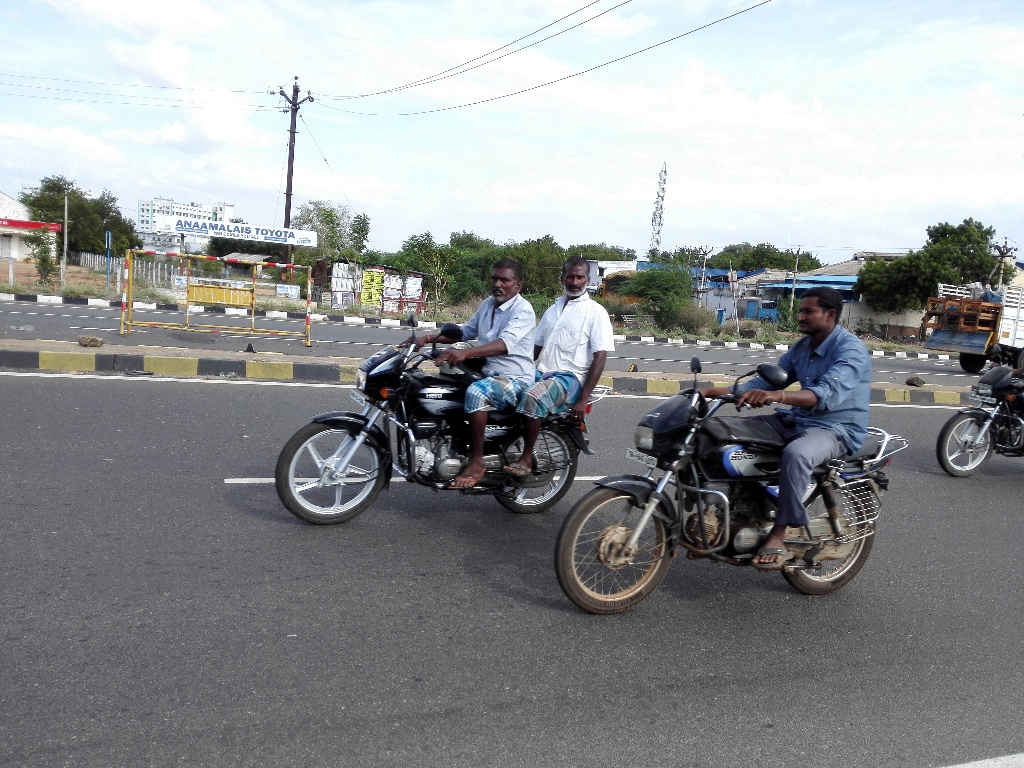biker: (245, 202, 643, 543), (619, 245, 925, 623)
nohelmet: (787, 281, 851, 346), (548, 248, 602, 312), (478, 250, 532, 314)
